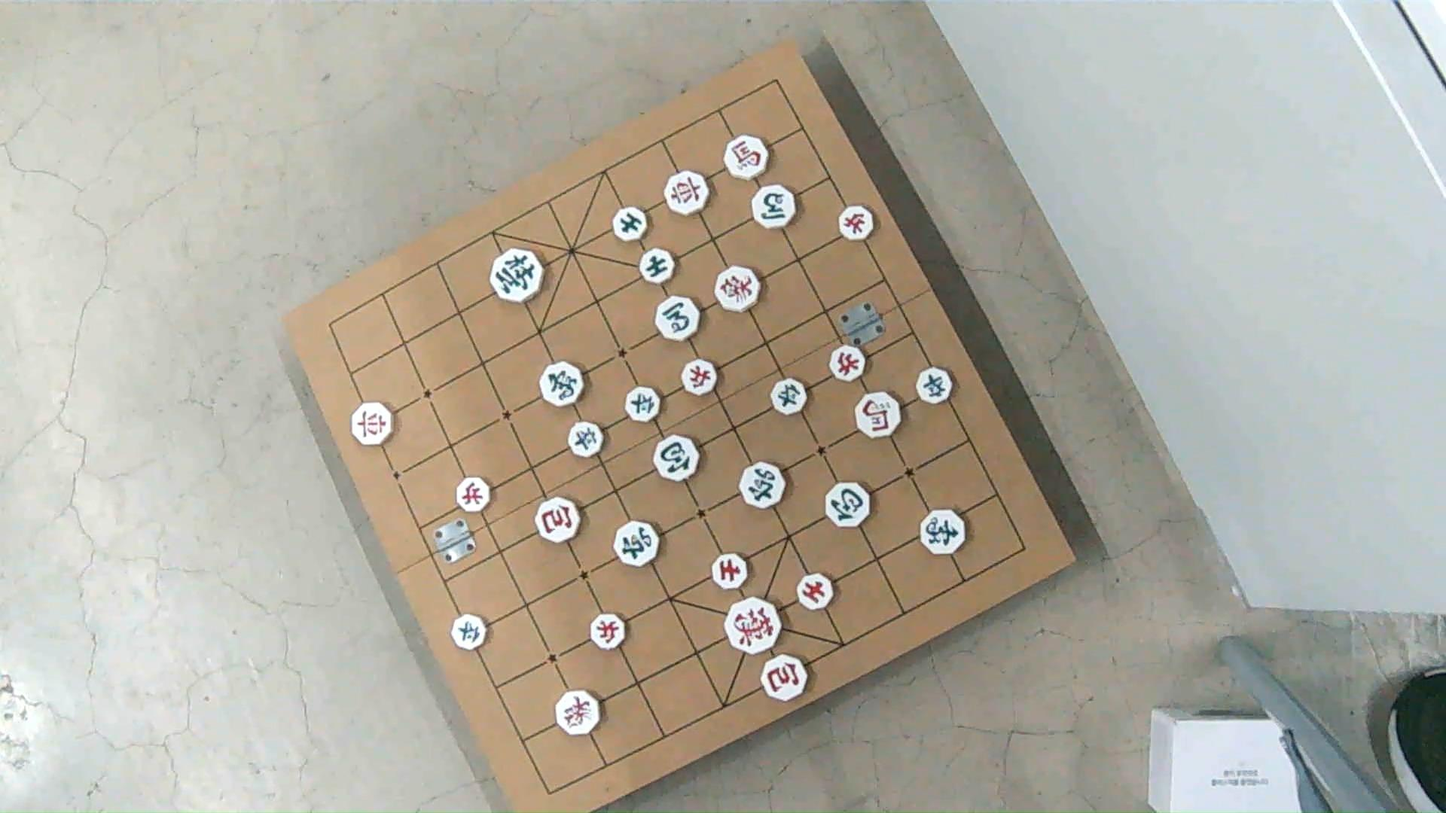cha_green: (740, 462, 786, 508), (614, 522, 658, 567)
cha_red: (664, 172, 709, 215), (352, 403, 394, 446)
jol_green: (772, 379, 808, 416), (917, 368, 954, 404), (625, 388, 660, 424), (453, 615, 488, 650), (568, 422, 602, 458)
jol_red: (827, 344, 865, 382), (591, 612, 627, 649), (682, 360, 718, 396), (456, 477, 491, 513), (839, 205, 875, 240)
ma_green: (655, 297, 700, 342), (752, 186, 798, 230)
ma_red: (857, 393, 902, 440), (723, 135, 767, 178)
po_green: (656, 435, 703, 481), (825, 483, 871, 528)
po_red: (762, 656, 810, 701), (535, 498, 582, 543)
sa_green: (640, 249, 675, 284), (615, 208, 650, 243)
sa_red: (712, 553, 748, 590), (798, 573, 834, 610)
sang_green: (922, 511, 967, 556), (540, 361, 584, 406)
sang_red: (555, 690, 601, 735), (714, 267, 759, 312)
wang_green: (490, 250, 542, 305)
wang_red: (725, 598, 780, 653)
